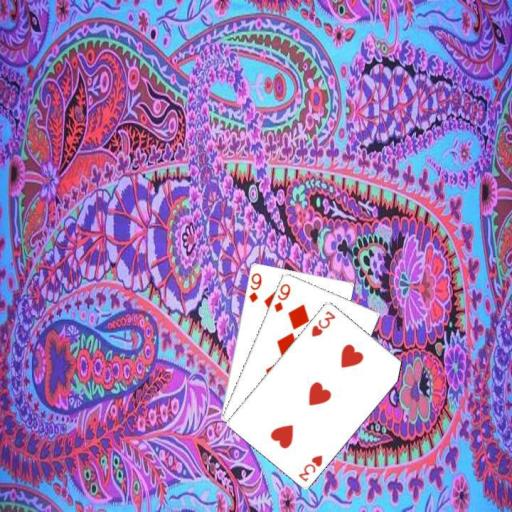3H: (295, 451, 324, 483), (308, 307, 337, 338)
9D: (271, 280, 292, 314), (245, 270, 263, 304)
